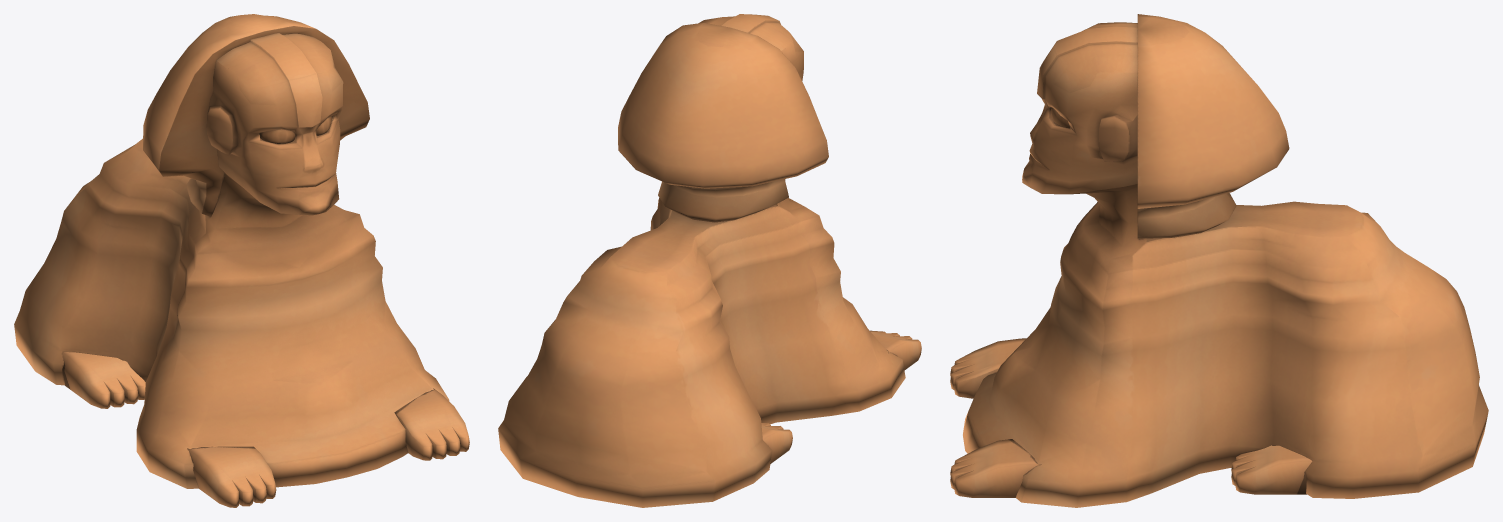
File: Egypt_Sphinx.fbx
3 renders of one model, left to right at view 1: azimuth 30°, elevation 25°; view 2: azimuth 150°, elevation 25°; view 3: azimuth 270°, elevation 25°, orthographic. The views are drawn at different scales.
Visible parts, largest first — view 1: Egypt_Sphinx; view 2: Egypt_Sphinx; view 3: Egypt_Sphinx.
Boxes of the visible parts, x1,y1,x2,y2 form: Egypt_Sphinx: [14, 14, 469, 507]; Egypt_Sphinx: [498, 14, 921, 507]; Egypt_Sphinx: [950, 14, 1488, 507].
Bounding box in the file's own units: 759 × 971 × 1170.
